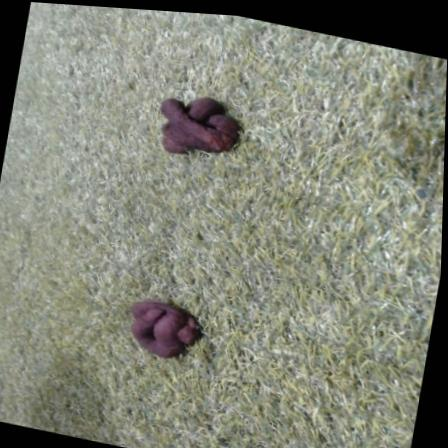dog-poop: (156, 78, 245, 165), (121, 286, 204, 365)
